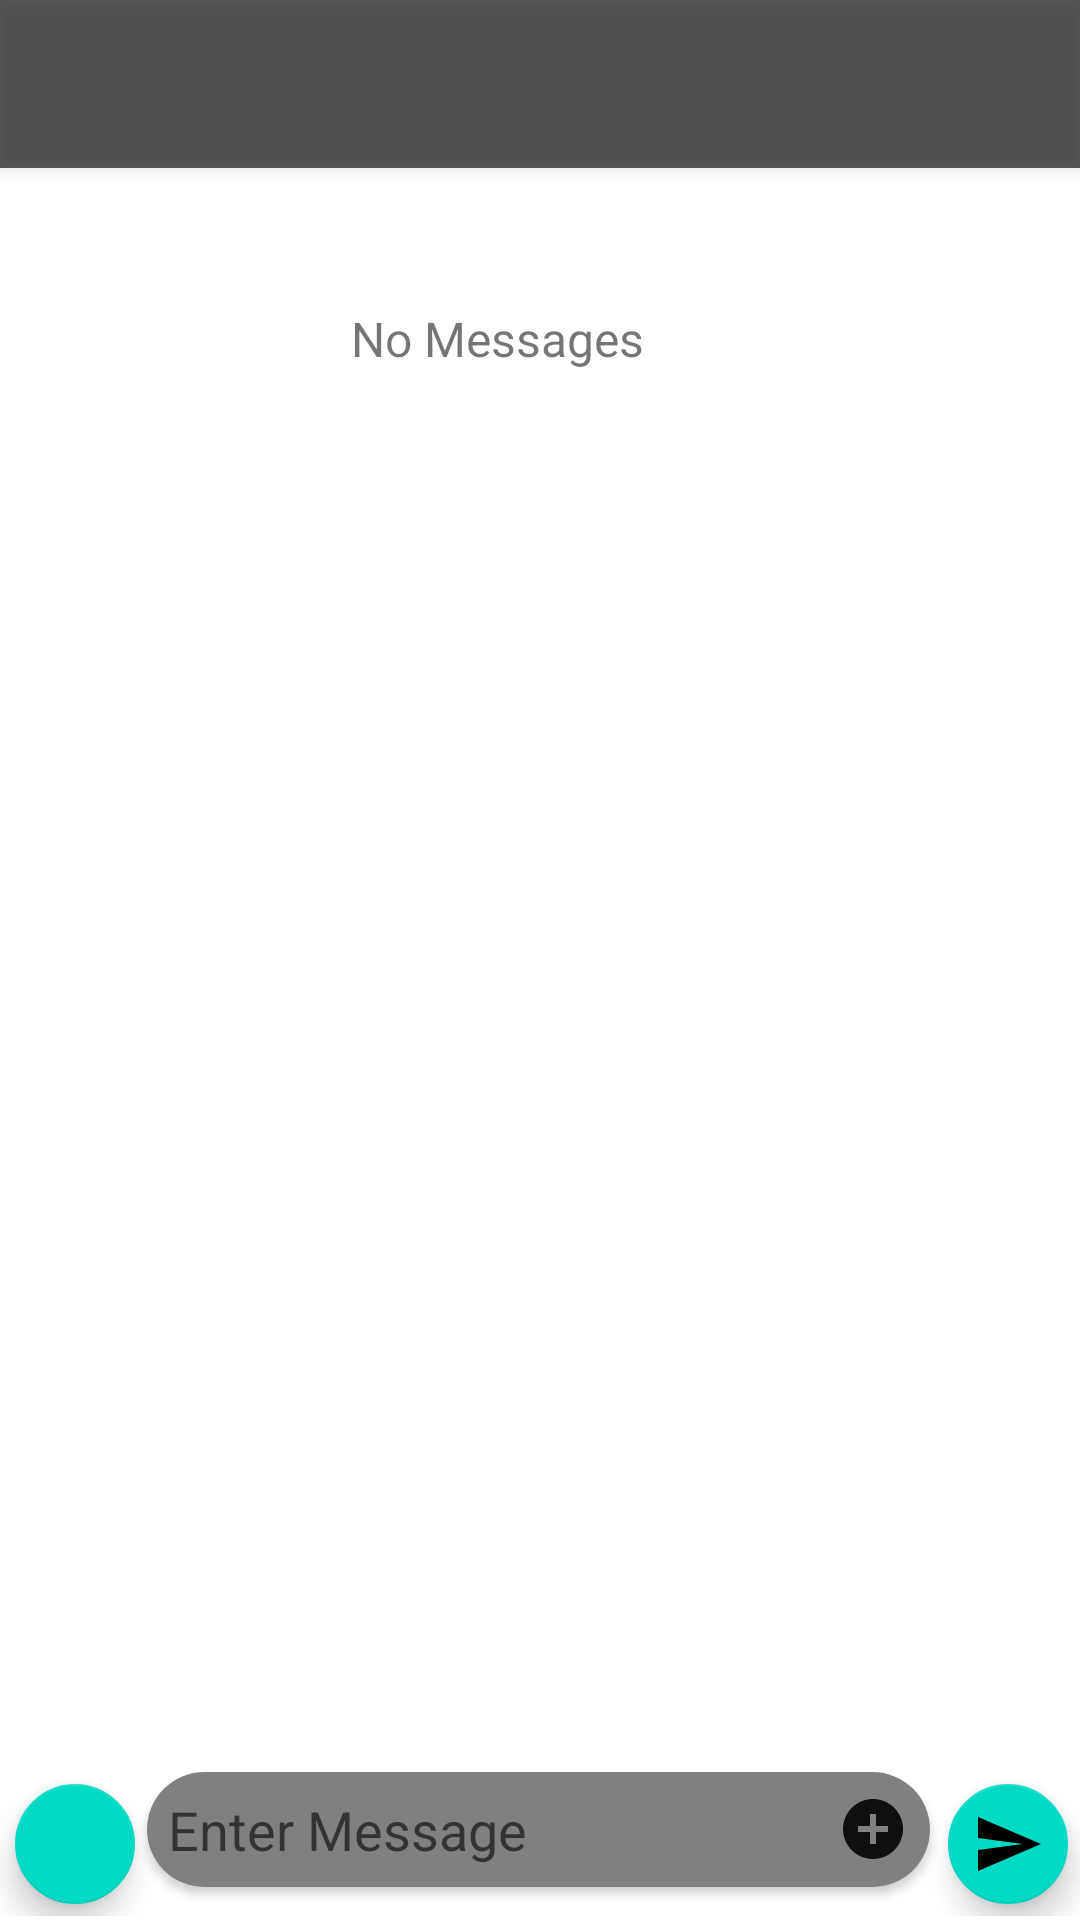

Screen size 1080 x 1920. Icon name, then its center in pixels as [x,y]:
send: [1009,1850]
